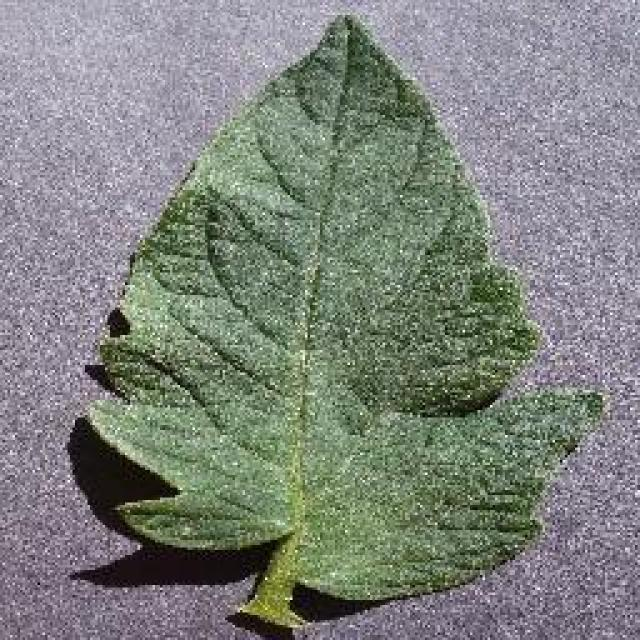Healthy: (62, 0, 622, 640)
